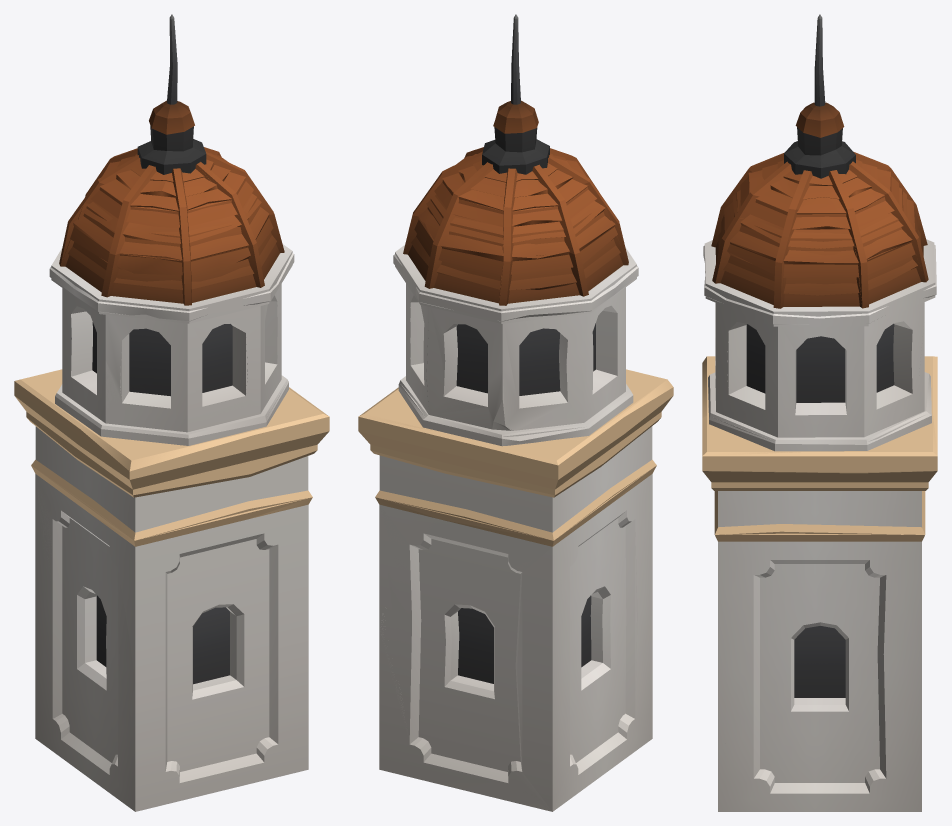
The model's file is Hall Tower Top 01.fbx.
3 renders of one model, left to right at view 1: azimuth 30°, elevation 25°; view 2: azimuth 150°, elevation 25°; view 3: azimuth 270°, elevation 25°, orthographic.
Visible parts, largest first — view 1: Hall Tower Top 01 high, Hall Tower Top 01, Hall Tower Top 01 low; view 2: Hall Tower Top 01 high, Hall Tower Top 01, Hall Tower Top 01 low; view 3: Hall Tower Top 01 high, Hall Tower Top 01, Hall Tower Top 01 low.
Part boxes in pixels (left/top/right/bottom): Hall Tower Top 01 high: left=14, top=14, right=329, bottom=811; Hall Tower Top 01: left=14, top=125, right=329, bottom=810; Hall Tower Top 01 low: left=15, top=164, right=328, bottom=808; Hall Tower Top 01 high: left=358, top=14, right=673, bottom=811; Hall Tower Top 01: left=358, top=127, right=673, bottom=811; Hall Tower Top 01 low: left=359, top=196, right=672, bottom=809; Hall Tower Top 01 high: left=702, top=14, right=937, bottom=811; Hall Tower Top 01: left=702, top=127, right=937, bottom=811; Hall Tower Top 01 low: left=702, top=187, right=937, bottom=810.
Bounding box in the file's own units: 2.8 × 9.93 × 2.8.
1 material, 1 textured.
